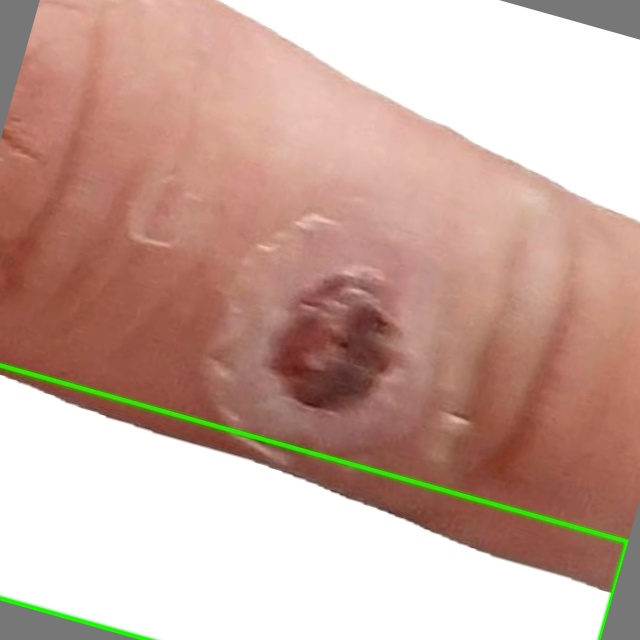Scabies: (0, 366, 627, 639)
